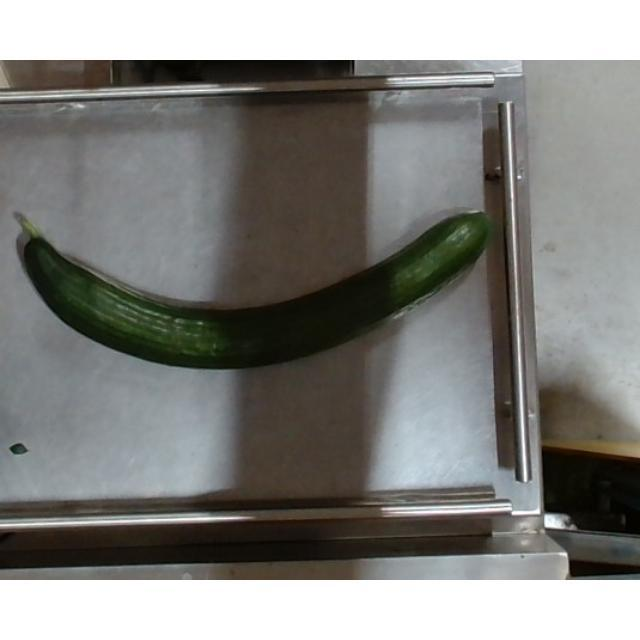cucumber: (8, 212, 490, 370)
